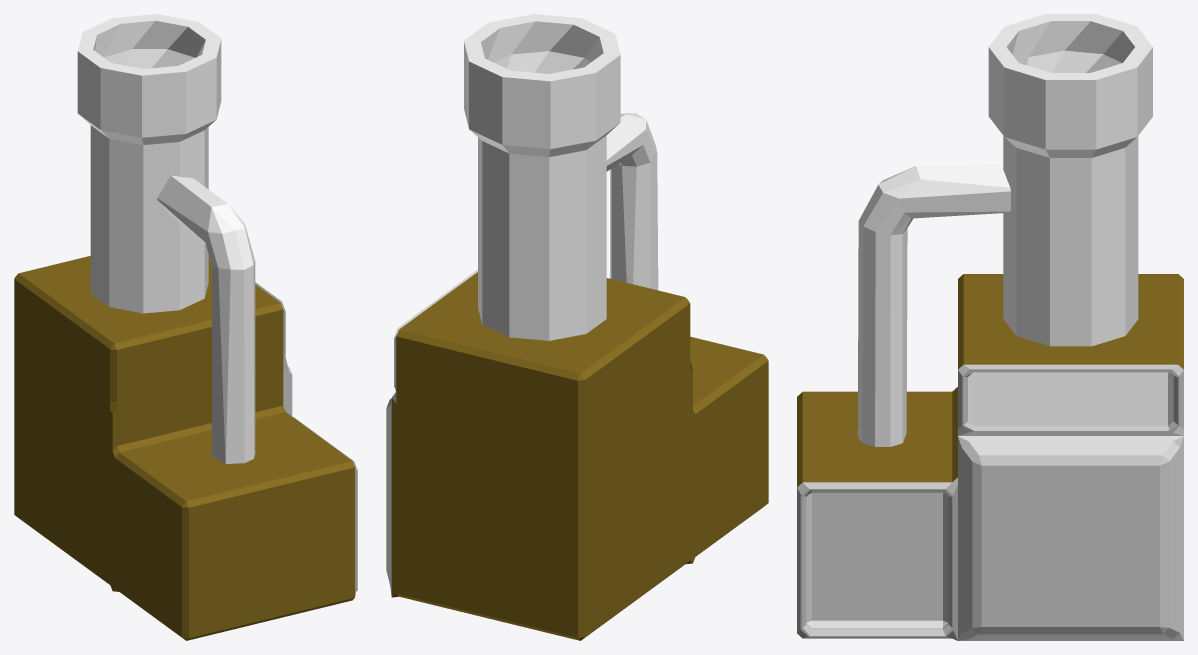
File: Smelter_Machine.fbx
The picture shows the model from 3 angles, left to right: view 1: azimuth 30°, elevation 25°; view 2: azimuth 150°, elevation 25°; view 3: azimuth 270°, elevation 25°; orthographic projection. The views are drawn at different scales.
Visible parts, largest first — view 1: Cube; view 2: Cube; view 3: Cube.
Part boxes in pixels (x1,y1,x2,y2): Cube: (14,14,357,640); Cube: (386,14,768,640); Cube: (797,14,1183,640).
Bounding box in the file's own units: 216 × 533 × 342.
